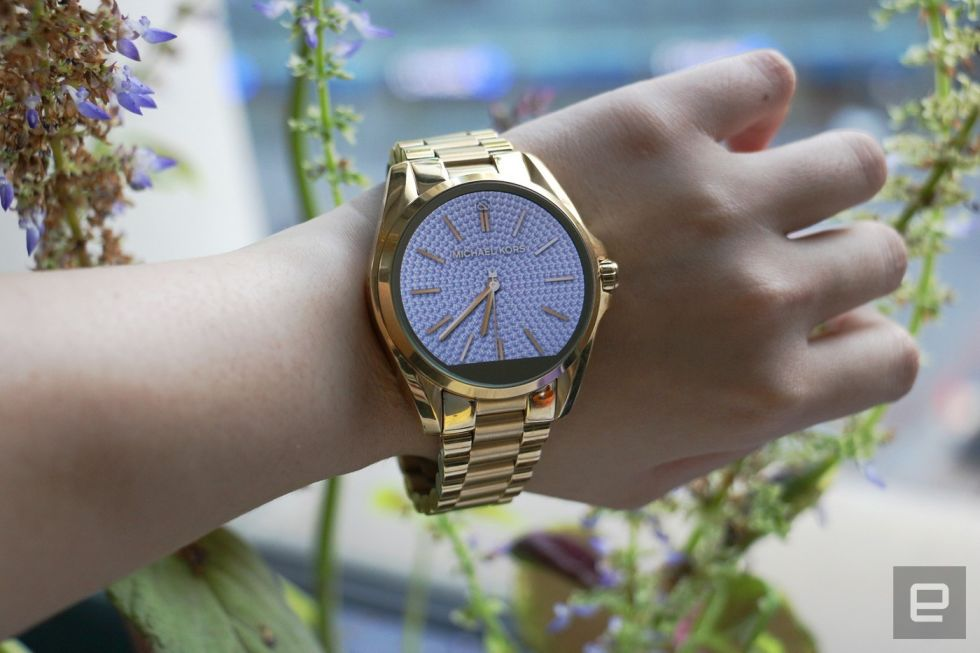clock: (388, 179, 596, 389)
